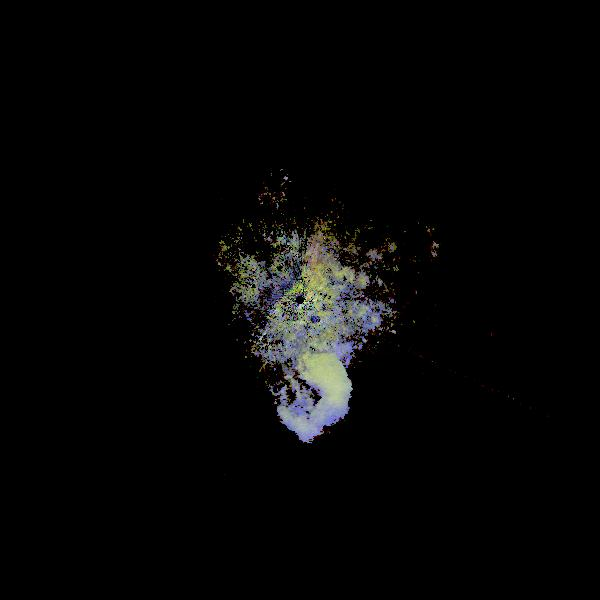roost: (241, 326, 373, 458)
